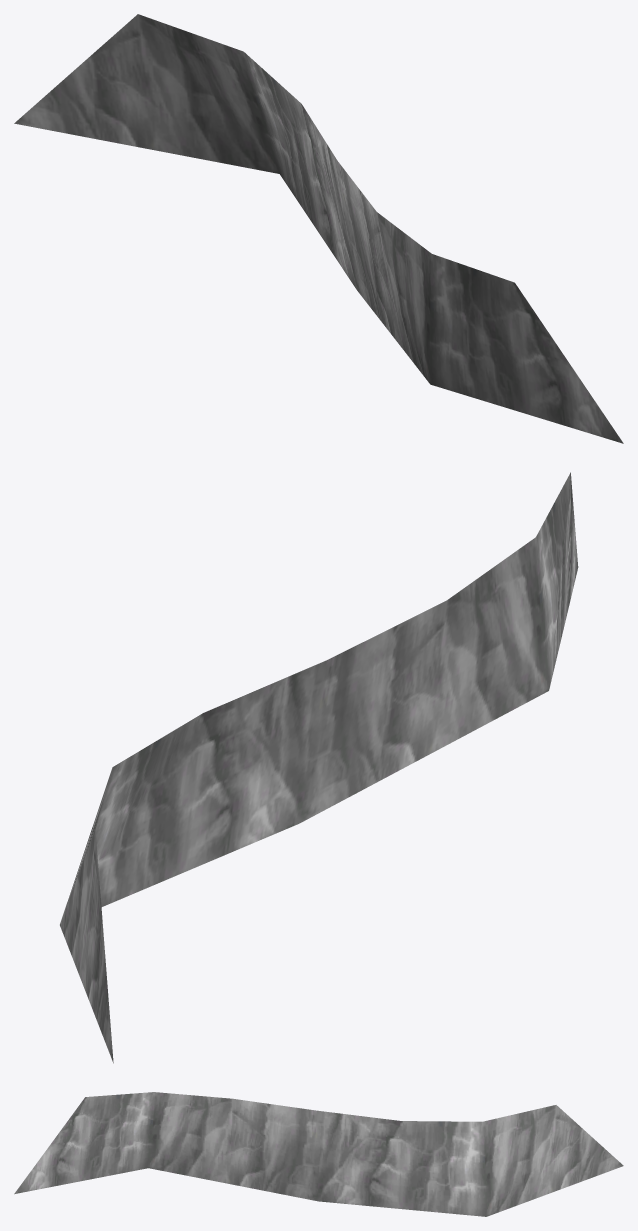
File: SWORDLIGHT20_PS-AREA03_80.fbx
The picture shows the model from 3 angles, top to bottom: view 1: azimuth 30°, elevation 25°; view 2: azimuth 150°, elevation 25°; view 3: azimuth 270°, elevation 25°; orthographic projection. The views are drawn at different scales.
Visible parts, largest first — view 1: SWORDLIGHT20_PS-AREA03_80; view 2: SWORDLIGHT20_PS-AREA03_80; view 3: SWORDLIGHT20_PS-AREA03_80.
Part boxes in pixels (x1,y1,x2,y2): SWORDLIGHT20_PS-AREA03_80: (14, 14, 623, 443); SWORDLIGHT20_PS-AREA03_80: (60, 472, 578, 1063); SWORDLIGHT20_PS-AREA03_80: (14, 1092, 623, 1216).
Size of the model in its own units: 26669 by 25308 by 147195.
1 material, 1 textured.
